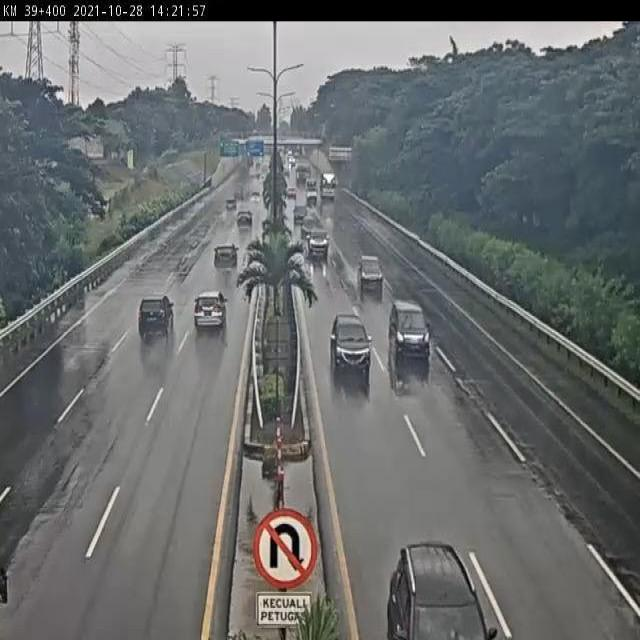car: (388, 299, 435, 364), (328, 312, 373, 375), (136, 292, 177, 344), (191, 289, 230, 336), (209, 243, 242, 280), (356, 250, 384, 290), (307, 227, 331, 256), (234, 207, 255, 229), (293, 202, 309, 222)
